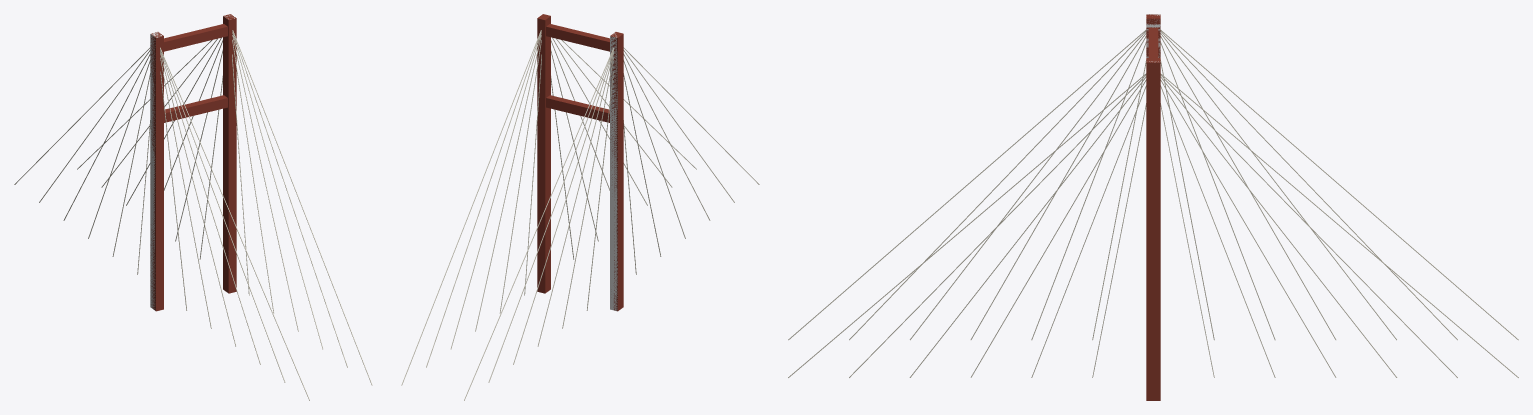
Rendered from chasm-pylon.glb.
3 views of the same model, side by side, from view 1: azimuth 30°, elevation 25°; view 2: azimuth 150°, elevation 25°; view 3: azimuth 270°, elevation 25° (orthographic). The views are drawn at different scales.
Parts seen in each view (by area): view 1: 00_#8a3a2c, 01_#d8d4c4_noshadow, solid.001; view 2: 01_#d8d4c4_noshadow, 00_#8a3a2c, solid.001; view 3: 01_#d8d4c4_noshadow, 00_#8a3a2c.
Boxes of the visible parts, bbox=[...] form: 00_#8a3a2c: bbox=[150, 14, 236, 311]; 01_#d8d4c4_noshadow: bbox=[14, 30, 372, 400]; solid.001: bbox=[150, 32, 161, 309]; 01_#d8d4c4_noshadow: bbox=[401, 30, 759, 400]; 00_#8a3a2c: bbox=[537, 14, 623, 311]; solid.001: bbox=[610, 33, 617, 310]; 01_#d8d4c4_noshadow: bbox=[788, 29, 1518, 377]; 00_#8a3a2c: bbox=[1146, 14, 1160, 400].
Bounding box in the file's own units: 14.2 × 46 × 90.06.
